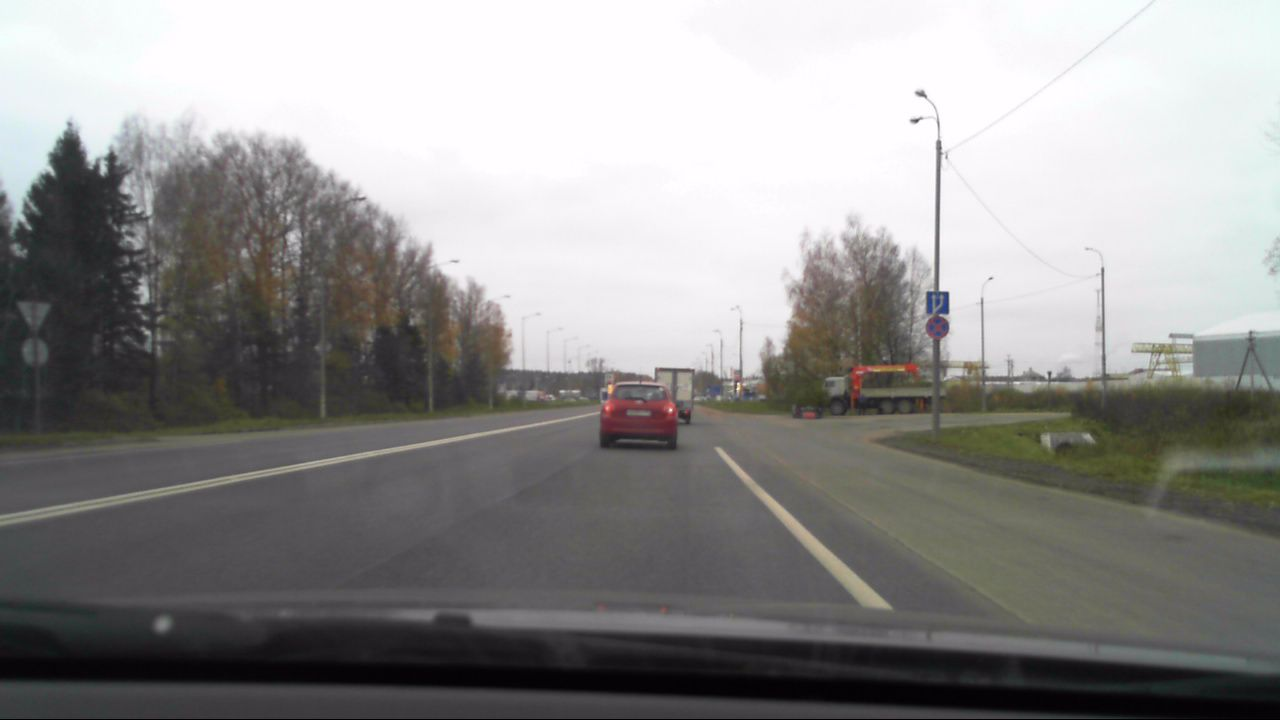No Parking: (922, 316, 950, 340)
